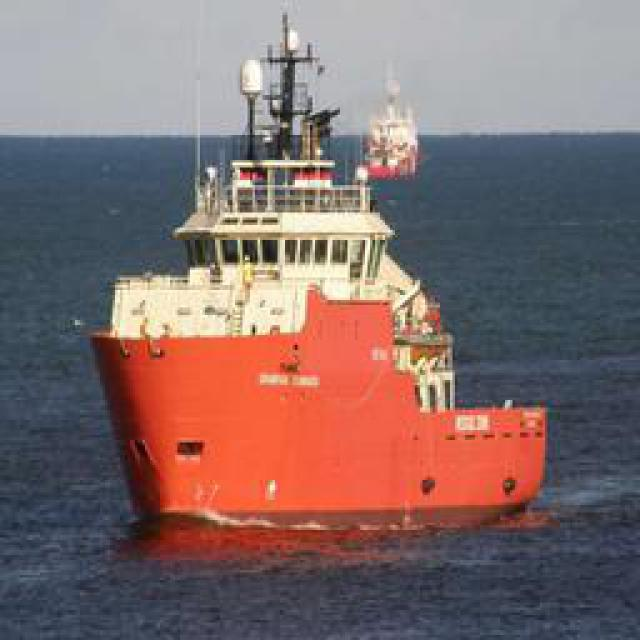Ship: (86, 15, 546, 533)
